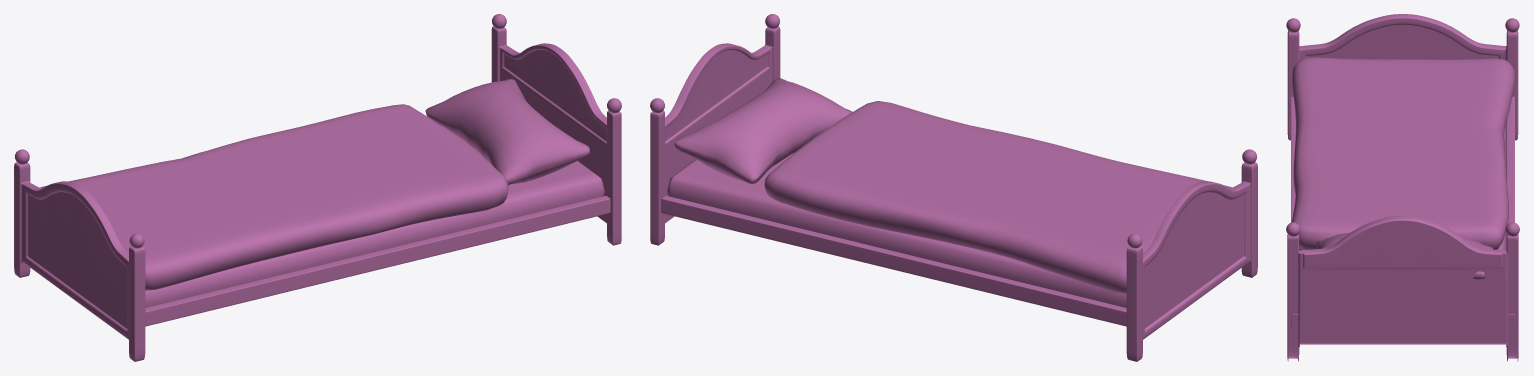
Rendered from Bed_Beta.0002.fbx.
3 views of the same model, side by side, from view 1: azimuth 30°, elevation 25°; view 2: azimuth 150°, elevation 25°; view 3: azimuth 270°, elevation 25° (orthographic). The views are drawn at different scales.
Visible parts, largest first — view 1: quiltLow, bedFootLow, mattressLow, bedHeadLow, pillowLow, baseLow; view 2: quiltLow, bedFootLow, mattressLow, bedHeadLow, pillowLow, baseLow; view 3: quiltLow, bedHeadLow, bedFootLow, baseLow, pillowLow, mattressLow.
Boxes of the visible parts, x1,y1,x2,y2 form: quiltLow: (40,104,508,290); bedFootLow: (14,162,145,361); mattressLow: (145,125,604,307); bedHeadLow: (491,26,621,245); pillowLow: (425,78,590,184); baseLow: (145,196,610,326); quiltLow: (764,101,1231,293); bedFootLow: (1126,162,1257,361); mattressLow: (667,153,1126,307); bedHeadLow: (650,26,780,245); pillowLow: (674,78,852,183); baseLow: (661,196,1126,326); quiltLow: (1291,57,1515,249); bedHeadLow: (1287,215,1518,361); bedFootLow: (1287,14,1518,140); baseLow: (1291,96,1514,326); pillowLow: (1316,232,1492,279); mattressLow: (1299,121,1506,250).
Bounding box in the file's own units: 17.33 × 5.09 × 7.51.
